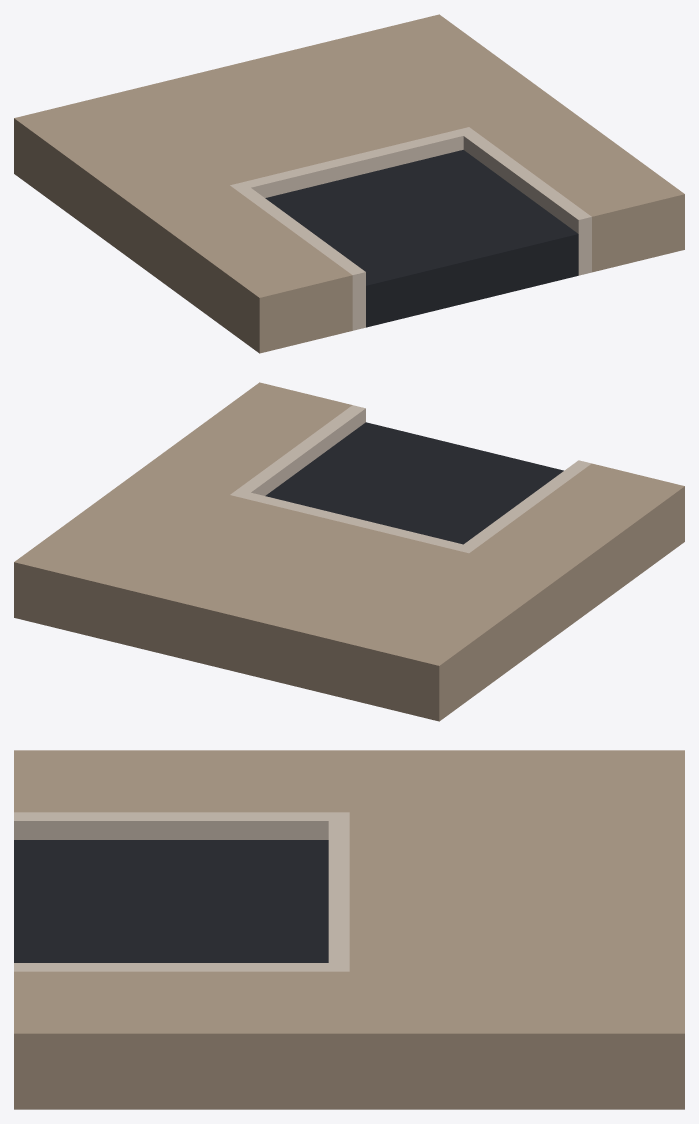
The model's file is road2.obj.
The picture shows the model from 3 angles, top to bottom: view 1: azimuth 30°, elevation 25°; view 2: azimuth 150°, elevation 25°; view 3: azimuth 270°, elevation 25°; orthographic projection. The views are drawn at different scales.
Size of the model in its own units: 3.2 by 0.4 by 3.2.
1 material, 1 textured.
